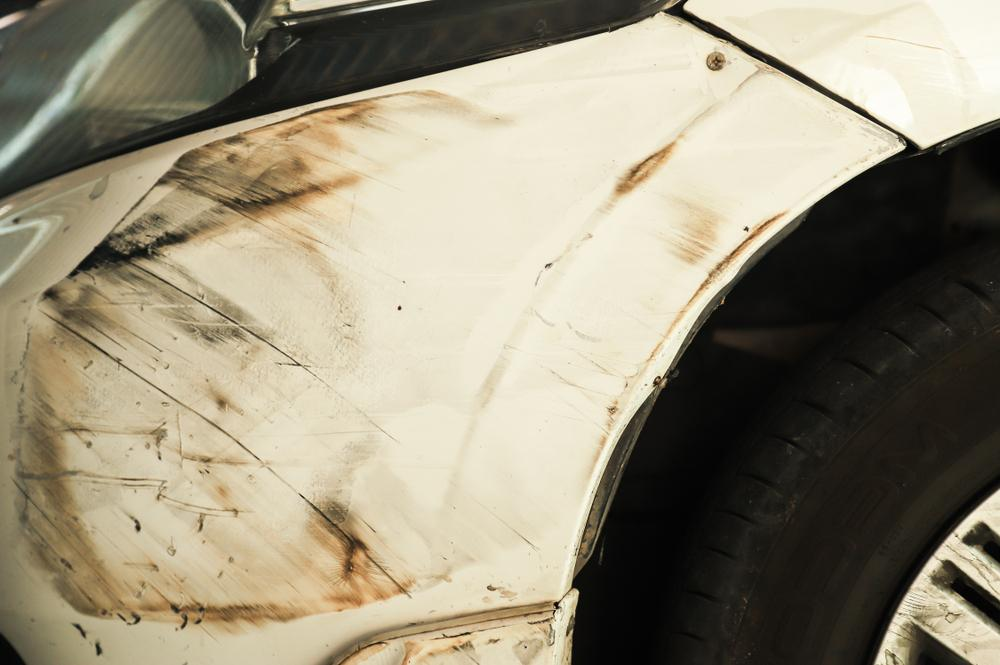scratch: (0, 59, 814, 634)
